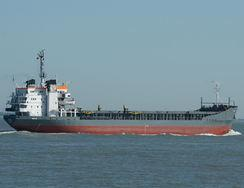Cargoship: (2, 50, 242, 133)
